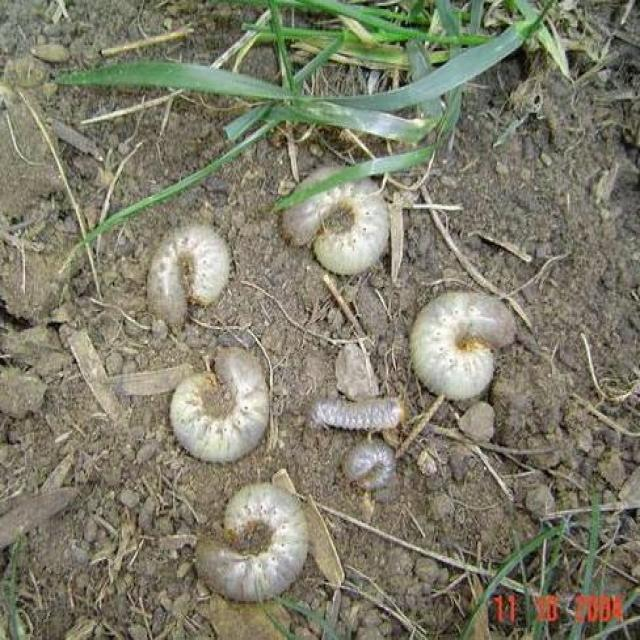grub: (205, 481, 323, 613), (290, 162, 391, 279), (410, 293, 524, 394), (150, 221, 239, 335), (176, 360, 275, 456), (311, 399, 412, 438), (344, 440, 408, 490)
